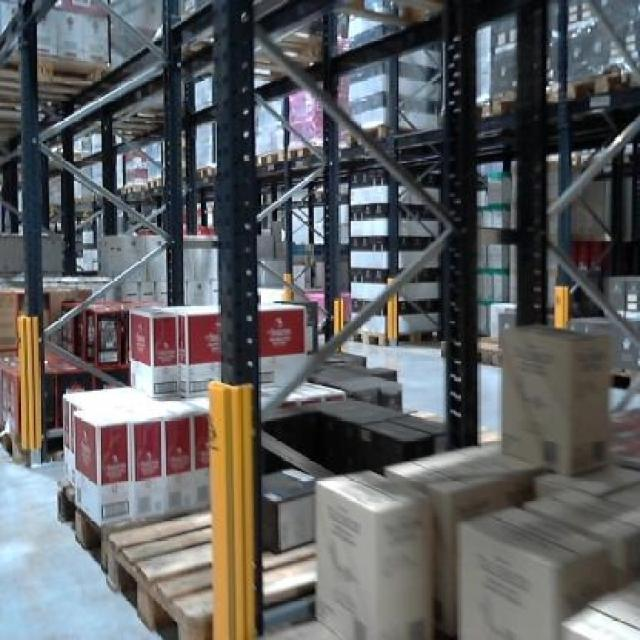pallets: (0, 448, 157, 637), (457, 506, 611, 637), (62, 386, 206, 523), (314, 469, 431, 637), (502, 325, 609, 472), (343, 342, 440, 411), (478, 363, 497, 438)
